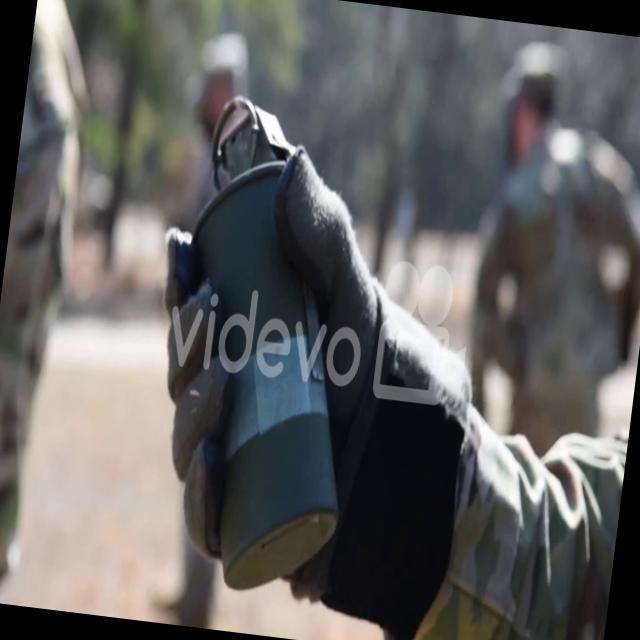grenade: (139, 78, 390, 600)
